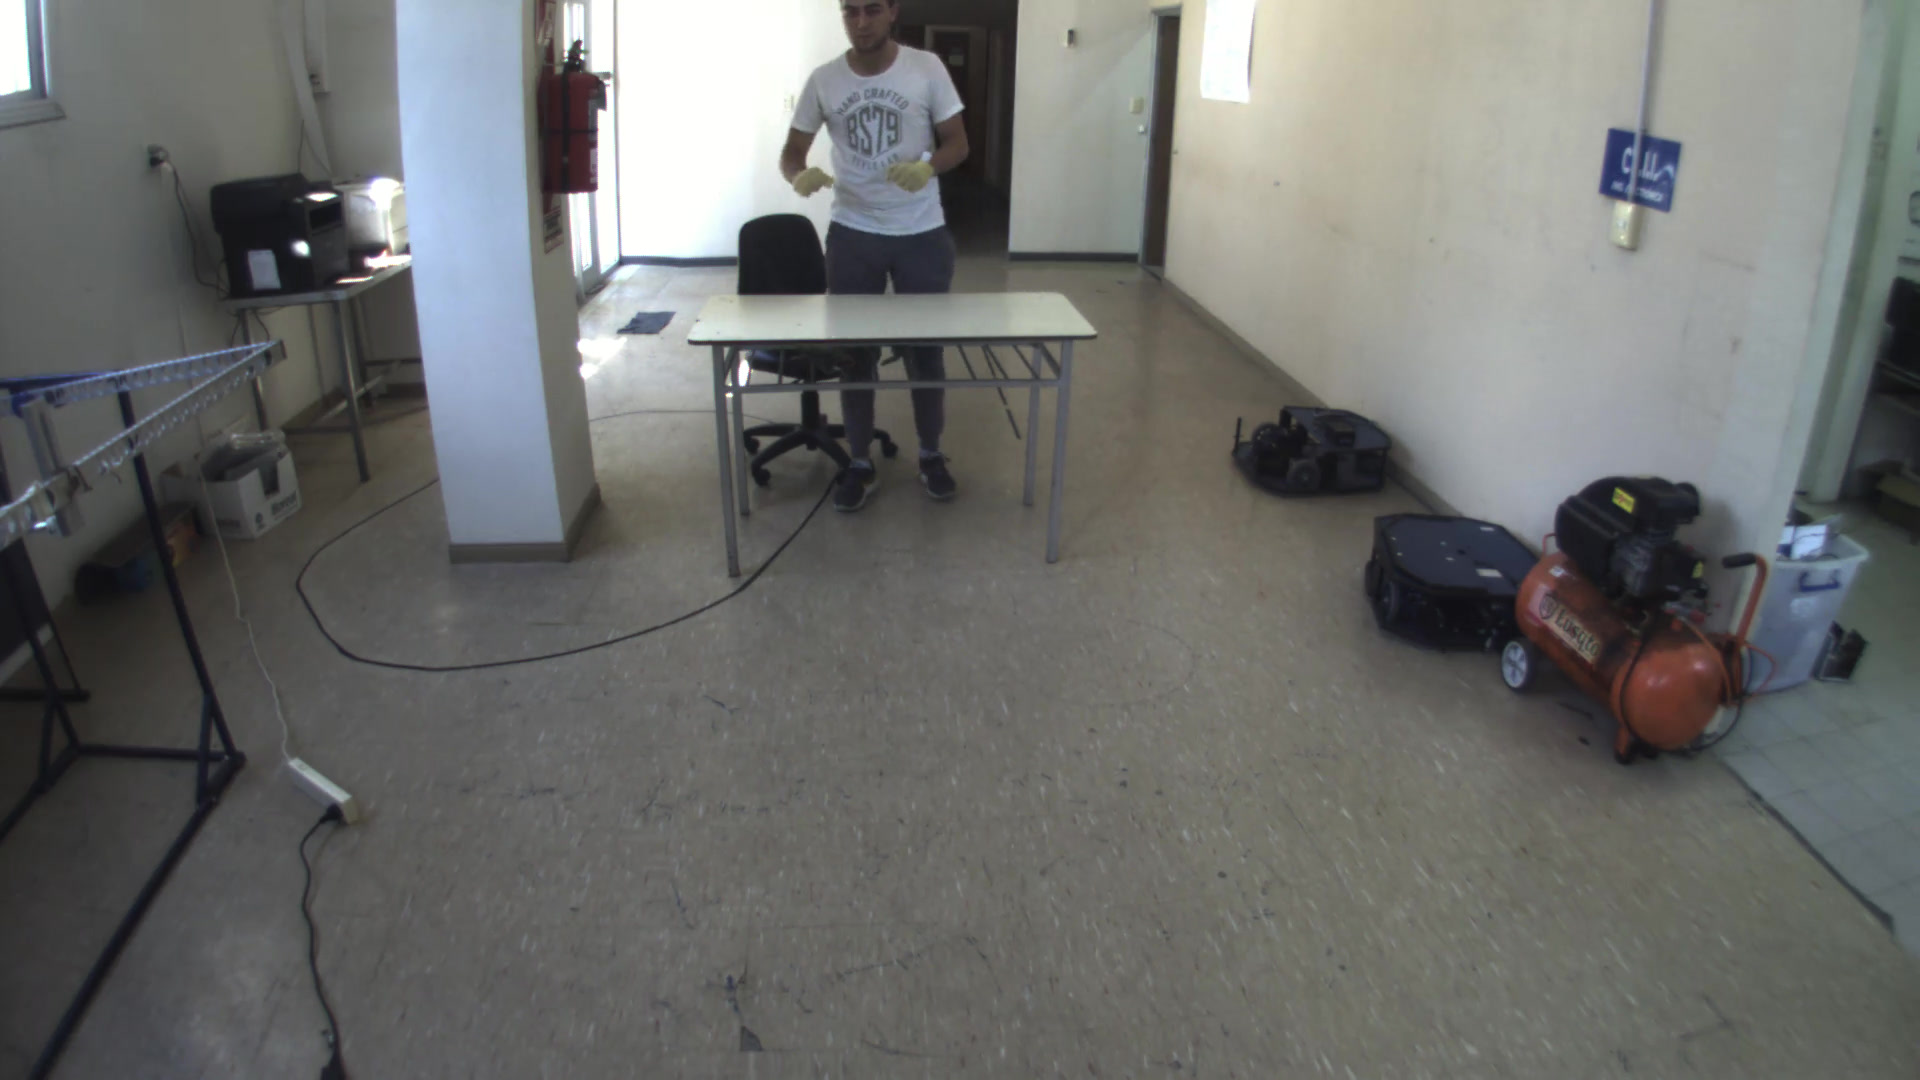hand: (876, 148, 938, 199), (785, 160, 836, 214)
